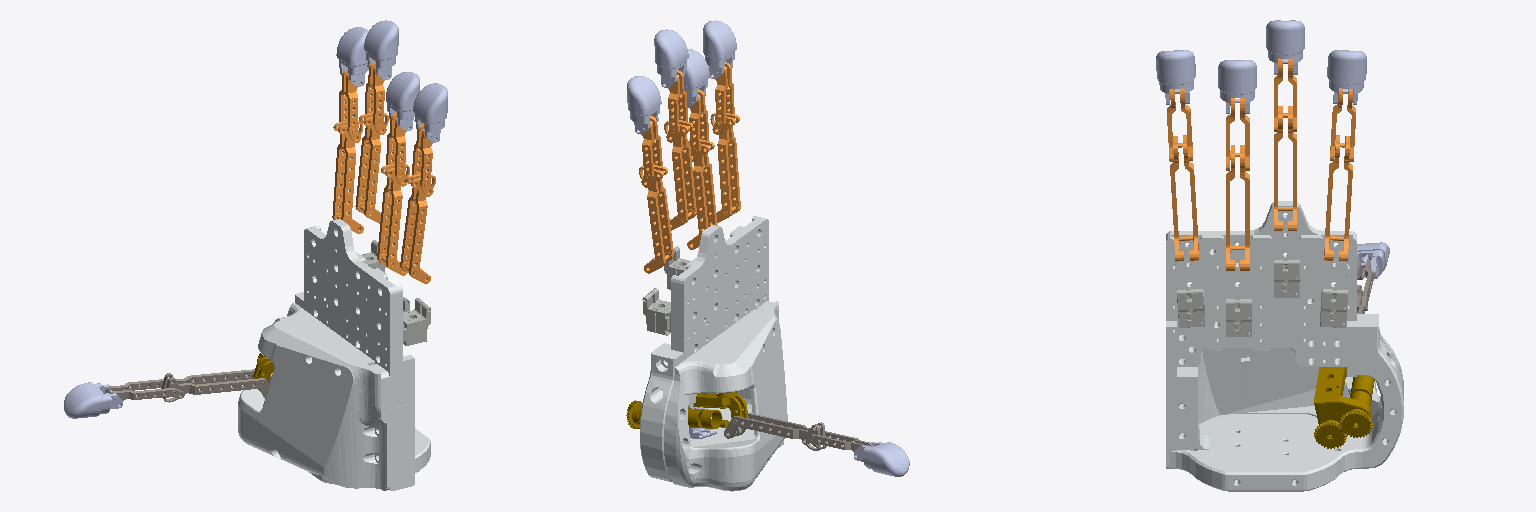
--- Facts derived from the render (not from the file) ---
Views: 3 orthographic renders of the robot side by side, from view 1: azimuth 30°, elevation 25°; view 2: azimuth 150°, elevation 25°; view 3: azimuth 270°, elevation 25°.
Model robot with 27 links and 26 joints (16 revolute, 10 fixed), rooted at left_hand_base_link, posed every joint at zero.
Visible links, largest first — view 1: left_hand_base_link, left_pinky_q1_link, left_ring_q1_link, left_middle_q1_link, left_first_q1_link, left_thumb_q1_link, left_thumb_q3_link, left_middle_q3_link, left_pinky_q3_link, left_ring_q3_link, left_first_q3_link, left_thumb_q2_link (+5 smaller); view 2: left_hand_base_link, left_first_q1_link, left_thumb_q0_link, left_middle_q1_link, left_pinky_q1_link, left_ring_q1_link, left_thumb_q1_link, left_first_q3_link, left_middle_q3_link, left_pinky_q3_link, left_thumb_q3_link, left_ring_q3_link (+6 smaller); view 3: left_hand_base_link, left_thumb_q0_link, left_first_q3_link, left_pinky_q3_link, left_middle_q3_link, left_ring_q3_link, left_pinky_q1_link, left_first_q1_link, left_ring_q1_link, left_middle_q1_link, left_first_d1_link, left_pinky_d1_link (+7 smaller).
Boxes of the visible links, left/top/right/bottom form: left_hand_base_link: left=238, top=219, right=430, bottom=490; left_pinky_q1_link: left=400, top=173, right=435, bottom=283; left_ring_q1_link: left=377, top=163, right=409, bottom=275; left_middle_q1_link: left=355, top=112, right=388, bottom=223; left_first_q1_link: left=332, top=120, right=363, bottom=233; left_thumb_q1_link: left=161, top=369, right=268, bottom=402; left_thumb_q3_link: left=64, top=382, right=122, bottom=418; left_middle_q3_link: left=364, top=20, right=398, bottom=79; left_pinky_q3_link: left=413, top=83, right=447, bottom=142; left_ring_q3_link: left=386, top=72, right=419, bottom=130; left_first_q3_link: left=336, top=27, right=368, bottom=86; left_thumb_q2_link: left=103, top=379, right=184, bottom=400; left_hand_base_link: left=640, top=216, right=787, bottom=491; left_first_q1_link: left=639, top=164, right=673, bottom=273; left_thumb_q0_link: left=626, top=392, right=747, bottom=428; left_middle_q1_link: left=664, top=120, right=696, bottom=230; left_pinky_q1_link: left=710, top=113, right=740, bottom=223; left_ring_q1_link: left=687, top=139, right=717, bottom=249; left_thumb_q1_link: left=724, top=413, right=826, bottom=450; left_first_q3_link: left=627, top=76, right=661, bottom=134; left_middle_q3_link: left=654, top=29, right=688, bottom=87; left_pinky_q3_link: left=703, top=20, right=736, bottom=78; left_thumb_q3_link: left=854, top=442, right=909, bottom=476; left_ring_q3_link: left=682, top=49, right=709, bottom=107; left_hand_base_link: left=1166, top=201, right=1403, bottom=491; left_thumb_q0_link: left=1314, top=367, right=1374, bottom=448; left_first_q3_link: left=1327, top=50, right=1366, bottom=104; left_pinky_q3_link: left=1156, top=50, right=1195, bottom=104; left_middle_q3_link: left=1266, top=20, right=1304, bottom=74; left_ring_q3_link: left=1218, top=60, right=1256, bottom=113; left_pinky_q1_link: left=1170, top=135, right=1198, bottom=261; left_first_q1_link: left=1324, top=135, right=1352, bottom=261; left_ring_q1_link: left=1226, top=145, right=1249, bottom=270; left_middle_q1_link: left=1274, top=106, right=1296, bottom=230; left_first_d1_link: left=1320, top=289, right=1347, bottom=327; left_pinky_d1_link: left=1177, top=289, right=1204, bottom=327.
Size in the robot's own frame: 0.1764 by 0.114 by 0.2351 metres.
23 mesh visuals loaded from 11 distinct referenced files (11 binary STL).

The robot description file, URDF, robot "robot":
<?xml version="1.0" encoding="utf-8"?>
<!-- Mentee Robotics LTD -->
<robot name="robot">

  <link name="left_hand_base_link">
    <inertial>
      <origin xyz="1.41028E-5 -1.38132E-3 1.21910E-2" rpy="0 0 0" />
      <mass value="2.69760E-1" />
      <inertia ixx="6.26390E-4" ixy="-2.62810E-6" ixz="1.78530E-5" iyy="4.18720E-4" iyz="4.25750E-6" izz="2.79820E-4" />
    </inertial>
    <visual>
      <origin xyz="0 0 0" rpy="0 0 0" />
      <geometry>
        <mesh filename="../meshes/left_hand_centered_plastic_base_link.STL" />
      </geometry>
      <material name="hand_base_material">
        <color rgba="9.00000E-1 9.20000E-1 9.30000E-1 1" />
      </material>
    </visual>
    <collision>
      <origin xyz="-0.0015 0 0.07231205" rpy="0 0 0" />
      <geometry>
        <box size="0.007558914 0.08930652 0.08707689"/>
      </geometry>
    </collision>
  </link>
  <link name="left_first_finger_link">
    <inertial>
      <origin xyz="1.41028E-5 -1.38132E-3 1.21910E-2" rpy="0 0 0" />
      <mass value="6.23184E-2" />
      <inertia ixx="2.69318E-5" ixy="-6.82829E-9" ixz="-3.70732E-9" iyy="1.89349E-5" iyz="-3.38259E-6" izz="9.16720E-6" />
    </inertial>
    <visual>
      <origin xyz="0 0 0" rpy="0 0 0" />
      <geometry>
        <box size="0.0 0.0 0.00"/>
      </geometry>
      <material name="finger_material">
        <color rgba="6.50000E-1 6.20000E-1 5.90000E-1 1" />
      </material>
    </visual>
    <!-- <collision>
      <origin xyz="0 0 0" rpy="0 0 0" />
      <geometry>
<box size="0.0 0.0 0.00"/>
      </geometry>
    </collision> -->
  </link>
  <joint name="left_first_finger_joint" type="fixed">
    <parent link="left_hand_base_link"/>
    <child link="left_first_finger_link"/>
    <origin xyz="1.25E-2 2.982727E-2 6.902597E-2" rpy="0 0.05235987755982989 1.5707963267948966"/>
  </joint>
  <link name="left_first_d1_link">
    <inertial>
      <origin xyz="1.74150E-4 1.08122E-3 7.23593E-3" rpy="0 0 0" />
      <mass value="1.05530E-2" />
      <inertia ixx="4.19692E-7" ixy="7.60112E-9" ixz="-2.83919E-9" iyy="3.03494E-7" iyz="5.53787E-8" izz="3.23542E-7" />
    </inertial>
    <visual>
      <origin xyz="0 0 0" rpy="0 0 0" />
      <geometry>
        <mesh filename="../meshes/d1_link.STL" />
      </geometry>
      <material name="d1_material">
        <color rgba="7.60000E-1 7.70000E-1 7.50000E-1 1" />
      </material>
    </visual>

  </link>
  <joint name="left_first_d1" type="fixed">  <!--type="prismatic"-->
    <origin xyz="0 0 7.78820E-3" rpy="0 0 0" />
    <parent link="left_first_finger_link" />
    <child link="left_first_d1_link" />
    <axis xyz="0 0 1" />
    <limit lower="0" upper="1.37000E-2" effort="65" velocity="2.26670E-2" />
  </joint>
  <link name="left_first_q1_link">
    <inertial>
      <origin xyz="-1.08233E-3 -2.23853E-2 3.25131E-18" rpy="0 0 0" />
      <mass value="1.13769E-2" />
      <inertia ixx="4.45629E-6" ixy="2.87678E-7" ixz="0" iyy="2.80820E-7" iyz="0" izz="4.39682E-6" />
    </inertial>
    <visual>
      <origin xyz="0 0 0" rpy="0 0 0" />
      <geometry>
        <mesh filename="../meshes/q1_link.STL" />
      </geometry>
      <material name="q1_material">
        <color rgba="1 6.60000E-1 3.30000E-1 1" />
      </material>
    </visual>
    <collision>
      <origin xyz="-9.8769626e-05 -3.3989478e-02 4.5013926e-09" rpy="2.413454291633745e-12 -2.680776711727617e-09 1.424609304985405e-16" />
      <geometry>
        <box size="0.0048858104 0.03297816 0.01"/>
      </geometry>
    </collision>
  </link>
  <joint name="left_first_q1" type="revolute">
    <origin xyz="0 3.00000E-3 4.90000E-2" rpy="-1.5708 -1.05310E-1 1.5708" />
    <parent link="left_first_finger_link" />
    <child link="left_first_q1_link" />
    <axis xyz="0 0 1" />
    <limit lower="0" upper="1.6642" effort="0.001" velocity="1" />
  </joint>
  <link name="left_first_q2_link">
    <inertial>
      <origin xyz="1.36499E-2 5.85876E-5 -4.02070E-18" rpy="0 0 0" />
      <mass value="6.45066E-3" />
      <inertia ixx="1.14612E-7" ixy="-1.97658E-8" ixz="0" iyy="9.24394E-7" iyz="0" izz="8.62155E-7" />
    </inertial>
    <visual>
      <origin xyz="0 0 0" rpy="0 0 0" />
      <geometry>
        <mesh filename="../meshes/q2_link.STL" />
      </geometry>
      <material name="q2_material">
        <color rgba="1 6.60000E-1 3.30000E-1 1" />
      </material>
    </visual>
    <collision>
      <origin xyz="1.3972766e-02 8.0840581e-04 7.7610217e-11" rpy="0 0 0" />
      <geometry>
        <box size="0.024256716 0.0047367546 0.010154686"/>
      </geometry>
    </collision>
  </link>
  <joint name="left_first_q2" type="revolute">
    <origin xyz="0 -5.00000E-2 0" rpy="0 0 -1.5708" />
    <parent link="left_first_q1_link" />
    <child link="left_first_q2_link" />
    <axis xyz="0 0 1" />
    <limit lower="0" upper="1.3737" effort="0.001" velocity="1" />
  </joint>
  <link name="left_first_q3_link">
    <inertial>
      <origin xyz="1.30988E-2 -3.50493E-3 5.10530E-7" rpy="0 0 0" />
      <mass value="1.31077E-2" />
      <inertia ixx="4.05146E-7" ixy="7.10882E-8" ixz="1.25856E-10" iyy="6.74981E-7" iyz="-4.14391E-11" izz="5.73179E-7" />
    </inertial>
    <visual>
      <origin xyz="0 0 0" rpy="0 0 0" />
      <geometry>
        <mesh filename="../meshes/q3_link.STL" />
      </geometry>
      <material name="q3_material">
        <color rgba="7.90000E-1 8.20000E-1 9.30000E-1 1" />
      </material>
    </visual>
    <collision>
      <origin xyz="0.01232947 -0.00265039 -0.00015648" rpy="-0.00130114451867413 -0.022229642002364214 0.0005672468909592609" />
      <geometry>
        <box size="0.020540927 0.010061896 0.014901003"/>
      </geometry>
    </collision>
  </link>
  <joint name="left_first_q3" type="revolute">
    <origin xyz="2.79560E-2 1.57500E-3 0" rpy="0 0 5.62780E-2" />
    <parent link="left_first_q2_link" />
    <child link="left_first_q3_link" />
    <axis xyz="0 0 1" />
    <limit lower="0" upper="1.2654" effort="0.001" velocity="1" />
  </joint> 
  <link name="left_middle_finger_link">
    <inertial>
      <origin xyz="1.41028E-5 -1.38132E-3 1.21910E-2" rpy="0 0 0" />
      <mass value="6.23184E-2" />
      <inertia ixx="2.69318E-5" ixy="-6.82829E-9" ixz="-3.70732E-9" iyy="1.89349E-5" iyz="-3.38259E-6" izz="9.16720E-6" />
    </inertial>
    <visual>
      <origin xyz="0 0 0" rpy="0 0 0" />
      <geometry>
        <box size="0.0 0.0 0.00"/>
      </geometry>
      <material name="finger_material">
        <color rgba="6.50000E-1 6.20000E-1 5.90000E-1 1" />
      </material>
    </visual>
  </link> 
  <!-- Fixed joint to connect left_hand_base_link and new_link -->
  <joint name="left_middle_finger_joint" type="fixed">
    <parent link="left_hand_base_link"/>
    <child link="left_middle_finger_link"/>
    <origin xyz="1.25E-2 0.881903E-2 8.4E-2" rpy="0 0 1.5707963267948966"/> 1.25E-2 2.982727E-2 6.902597E-2
  </joint>
  <link name="left_middle_d1_link">
    <inertial>
      <origin xyz="1.74150E-4 1.08122E-3 7.23593E-3" rpy="0 0 0" />
      <mass value="1.05530E-2" />
      <inertia ixx="4.19692E-7" ixy="7.60112E-9" ixz="-2.83919E-9" iyy="3.03494E-7" iyz="5.53787E-8" izz="3.23542E-7" />
    </inertial>
    <visual>
      <origin xyz="0 0 0" rpy="0 0 0" />
      <geometry>
        <mesh filename="../meshes/d1_link.STL" />
      </geometry>
      <material name="d1_material">
        <color rgba="7.60000E-1 7.70000E-1 7.50000E-1 1" />
      </material>
    </visual>

  </link>
  <joint name="left_middle_d1" type="fixed">  <!--type="prismatic"-->
    <origin xyz="0 0 7.78820E-3" rpy="0 0 0" />
    <parent link="left_middle_finger_link" />
    <child link="left_middle_d1_link" />
    <axis xyz="0 0 1" />
    <limit lower="0" upper="1.37000E-2" effort="65" velocity="2.26670E-2" />
  </joint>
  <link name="left_middle_q1_link">
    <inertial>
      <origin xyz="-1.08233E-3 -2.23853E-2 3.25131E-18" rpy="0 0 0" />
      <mass value="1.13769E-2" />
      <inertia ixx="4.45629E-6" ixy="2.87678E-7" ixz="0" iyy="2.80820E-7" iyz="0" izz="4.39682E-6" />
    </inertial>
    <visual>
      <origin xyz="0 0 0" rpy="0 0 0" />
      <geometry>
        <mesh filename="../meshes/q1_link.STL" />
      </geometry>
      <material name="q1_material">
        <color rgba="1 6.60000E-1 3.30000E-1 1" />
      </material>
    </visual>
    <collision>
      <origin xyz="-9.8769626e-05 -3.3989478e-02 4.5013926e-09" rpy="2.413454291633745e-12 -2.680776711727617e-09 1.424609304985405e-16" />
      <geometry>
        <box size="0.0048858104 0.03297816 0.01"/>
      </geometry>
    </collision>
  </link>
  <joint name="left_middle_q1" type="revolute">
    <origin xyz="0 3.00000E-3 4.90000E-2" rpy="-1.5708 -1.05310E-1 1.5708" />
    <parent link="left_middle_finger_link" />
    <child link="left_middle_q1_link" />
    <axis xyz="0 0 1" />
    <limit lower="0" upper="1.6642" effort="0.001" velocity="1" />
  </joint>
  <link name="left_middle_q2_link">
    <inertial>
      <origin xyz="1.36499E-2 5.85876E-5 -4.02070E-18" rpy="0 0 0" />
      <mass value="6.45066E-3" />
      <inertia ixx="1.14612E-7" ixy="-1.97658E-8" ixz="0" iyy="9.24394E-7" iyz="0" izz="8.62155E-7" />
    </inertial>
    <visual>
      <origin xyz="0 0 0" rpy="0 0 0" />
      <geometry>
        <mesh filename="../meshes/q2_link.STL" />
      </geometry>
      <material name="q2_material">
        <color rgba="1 6.60000E-1 3.30000E-1 1" />
      </material>
    </visual>
    <collision>
      <origin xyz="1.3972766e-02 8.0840581e-04 7.7610217e-11" rpy="0 0 0" />
      <geometry>
        <box size="0.024256716 0.0047367546 0.010154686"/>
      </geometry>
    </collision>
  </link>
  <joint name="left_middle_q2" type="revolute">
    <origin xyz="0 -5.00000E-2 0" rpy="0 0 -1.5708" />
    <parent link="left_middle_q1_link" />
    <child link="left_middle_q2_link" />
    <axis xyz="0 0 1" />
    <limit lower="0" upper="1.3737" effort="0.001" velocity="1" />
  </joint>
  <link name="left_middle_q3_link">
    <inertial>
      <origin xyz="1.30988E-2 -3.50493E-3 5.10530E-7" rpy="0 0 0" />
      <mass value="1.31077E-2" />
      <inertia ixx="4.05146E-7" ixy="7.10882E-8" ixz="1.25856E-10" iyy="6.74981E-7" iyz="-4.14391E-11" izz="5.73179E-7" />
    </inertial>
    <visual>
      <origin xyz="0 0 0" rpy="0 0 0" />
      <geometry>
        <mesh filename="../meshes/q3_link.STL" />
      </geometry>
      <material name="q3_material">
        <color rgba="7.90000E-1 8.20000E-1 9.30000E-1 1" />
      </material>
    </visual>
    <collision>
      <origin xyz="0.01232947 -0.00265039 -0.00015648" rpy="-0.00130114451867413 -0.022229642002364214 0.0005672468909592609" />
      <geometry>
        <box size="0.020540927 0.010061896 0.014901003"/>
      </geometry>
    </collision>
  </link>
  <joint name="left_middle_q3" type="revolute">
    <origin xyz="2.79560E-2 1.57500E-3 0" rpy="0 0 5.62780E-2" />
    <parent link="left_middle_q2_link" />
    <child link="left_middle_q3_link" />
    <axis xyz="0 0 1" />
    <limit lower="0" upper="1.2654" effort="0.001" velocity="1" />
  </joint> 
  <link name="left_ring_finger_link">
    <inertial>
      <origin xyz="1.41028E-5 -1.38132E-3 1.21910E-2" rpy="0 0 0" />
      <mass value="6.23184E-2" />
      <inertia ixx="2.69318E-5" ixy="-6.82829E-9" ixz="-3.70732E-9" iyy="1.89349E-5" iyz="-3.38259E-6" izz="9.16720E-6" />
    </inertial>
    <visual>
      <origin xyz="0 0 0" rpy="0 0 0" />
      <geometry>
        <box size="0.0 0.0 0.00"/>
      </geometry>
      <material name="finger_material">
        <color rgba="6.50000E-1 6.20000E-1 5.90000E-1 1" />
      </material>
    </visual>
  </link> 
  <!-- Fixed joint to connect left_hand_base_link and new_link -->
  <joint name="left_ring_finger_joint" type="fixed">
    <parent link="left_hand_base_link"/>
    <child link="left_ring_finger_link"/>
    <origin xyz="1.25E-2 -1.318097E-2 6.4E-2" rpy="0 0 1.5707963267948966"/> 1.25E-2 2.982727E-2 6.902597E-2
  </joint>
  <link name="left_ring_d1_link">
    <inertial>
      <origin xyz="1.74150E-4 1.08122E-3 7.23593E-3" rpy="0 0 0" />
      <mass value="1.05530E-2" />
      <inertia ixx="4.19692E-7" ixy="7.60112E-9" ixz="-2.83919E-9" iyy="3.03494E-7" iyz="5.53787E-8" izz="3.23542E-7" />
    </inertial>
    <visual>
      <origin xyz="0 0 0" rpy="0 0 0" />
      <geometry>
        <mesh filename="../meshes/d1_link.STL" />
      </geometry>
      <material name="d1_material">
        <color rgba="7.60000E-1 7.70000E-1 7.50000E-1 1" />
      </material>
    </visual>
  </link>
  <joint name="left_ring_d1" type="fixed">  <!--type="prismatic"-->
    <origin xyz="0 0 7.78820E-3" rpy="0 0 0" />
    <parent link="left_ring_finger_link" />
    <child link="left_ring_d1_link" />
    <axis xyz="0 0 1" />
    <limit lower="0" upper="1.37000E-2" effort="65" velocity="2.26670E-2" />
  </joint>
  <link name="left_ring_q1_link">
    <inertial>
      <origin xyz="-1.08233E-3 -2.23853E-2 3.25131E-18" rpy="0 0 0" />
      <mass value="1.13769E-2" />
      <inertia ixx="4.45629E-6" ixy="2.87678E-7" ixz="0" iyy="2.80820E-7" iyz="0" izz="4.39682E-6" />
    </inertial>
    <visual>
      <origin xyz="0 0 0" rpy="0 0 0" />
      <geometry>
        <mesh filename="../meshes/q1_link.STL" />
      </geometry>
      <material name="q1_material">
        <color rgba="1 6.60000E-1 3.30000E-1 1" />
      </material>
    </visual>
    <collision>
      <origin xyz="-9.8769626e-05 -3.3989478e-02 4.5013926e-09" rpy="2.413454291633745e-12 -2.680776711727617e-09 1.424609304985405e-16" />
      <geometry>
        <box size="0.0048858104 0.03297816 0.01"/>
      </geometry>
    </collision>
  </link>
  <joint name="left_ring_q1" type="revolute">
    <origin xyz="0 3.00000E-3 4.90000E-2" rpy="-1.5708 -1.05310E-1 1.5708" />
    <parent link="left_ring_finger_link" />
    <child link="left_ring_q1_link" />
    <axis xyz="0 0 1" />
    <limit lower="0" upper="1.6642" effort="0.001" velocity="1" />
  </joint>
  <link name="left_ring_q2_link">
    <inertial>
      <origin xyz="1.36499E-2 5.85876E-5 -4.02070E-18" rpy="0 0 0" />
      <mass value="6.45066E-3" />
      <inertia ixx="1.14612E-7" ixy="-1.97658E-8" ixz="0" iyy="9.24394E-7" iyz="0" izz="8.62155E-7" />
    </inertial>
    <visual>
      <origin xyz="0 0 0" rpy="0 0 0" />
      <geometry>
        <mesh filename="../meshes/q2_link.STL" />
      </geometry>
      <material name="q2_material">
        <color rgba="1 6.60000E-1 3.30000E-1 1" />
      </material>
    </visual>
    <collision>
      <origin xyz="1.3972766e-02 8.0840581e-04 7.7610217e-11" rpy="0 0 0" />
      <geometry>
        <box size="0.024256716 0.0047367546 0.010154686"/>
      </geometry>
    </collision>
  </link>
  <joint name="left_ring_q2" type="revolute">
    <origin xyz="0 -5.00000E-2 0" rpy="0 0 -1.5708" />
    <parent link="left_ring_q1_link" />
    <child link="left_ring_q2_link" />
    <axis xyz="0 0 1" />
    <limit lower="0" upper="1.3737" effort="0.001" velocity="1" />
  </joint>
  <link name="left_ring_q3_link">
    <inertial>
      <origin xyz="1.30988E-2 -3.50493E-3 5.10530E-7" rpy="0 0 0" />
      <mass value="1.31077E-2" />
      <inertia ixx="4.05146E-7" ixy="7.10882E-8" ixz="1.25856E-10" iyy="6.74981E-7" iyz="-4.14391E-11" izz="5.73179E-7" />
    </inertial>
    <visual>
      <origin xyz="0 0 0" rpy="0 0 0" />
      <geometry>
        <mesh filename="../meshes/q3_link.STL" />
      </geometry>
      <material name="q3_material">
        <color rgba="7.90000E-1 8.20000E-1 9.30000E-1 1" />
      </material>
    </visual>
    <collision>
      <origin xyz="0.01232947 -0.00265039 -0.00015648" rpy="-0.00130114451867413 -0.022229642002364214 0.0005672468909592609" />
      <geometry>
        <box size="0.020540927 0.010061896 0.014901003"/>
      </geometry>
    </collision>
  </link>
  <joint name="left_ring_q3" type="revolute">
    <origin xyz="2.79560E-2 1.57500E-3 0" rpy="0 0 5.62780E-2" />
    <parent link="left_ring_q2_link" />
    <child link="left_ring_q3_link" />
    <axis xyz="0 0 1" />
    <limit lower="0" upper="1.2654" effort="0.001" velocity="1" />
  </joint>
  <link name="left_pinky_finger_link">
    <inertial>
      <origin xyz="1.41028E-5 -1.38132E-3 1.21910E-2" rpy="0 0 0" />
      <mass value="6.23184E-2" />
      <inertia ixx="2.69318E-5" ixy="-6.82829E-9" ixz="-3.70732E-9" iyy="1.89349E-5" iyz="-3.38259E-6" izz="9.16720E-6" />
    </inertial>
    <visual>
      <origin xyz="0 0 0" rpy="0 0 0" />
      <geometry>
        <box size="0.0 0.0 0.00"/>
      </geometry>
      <material name="finger_material">
        <color rgba="6.50000E-1 6.20000E-1 5.90000E-1 1" />
      </material>
    </visual>
  </link> 
  <!-- Fixed joint to connect left_hand_base_link and new_link -->
  <joint name="left_pinky_finger_joint" type="fixed">
    <parent link="left_hand_base_link"/>
    <child link="left_pinky_finger_link"/>
    <origin xyz="1.25E-2 -3.41892E-2 6.902597E-2" rpy="0 -0.05235987755982989 1.5707963267948966"/> 
  </joint>
  <link name="left_pinky_d1_link">
    <inertial>
      <origin xyz="1.74150E-4 1.08122E-3 7.23593E-3" rpy="0 0 0" />
      <mass value="1.05530E-2" />
      <inertia ixx="4.19692E-7" ixy="7.60112E-9" ixz="-2.83919E-9" iyy="3.03494E-7" iyz="5.53787E-8" izz="3.23542E-7" />
    </inertial>
    <visual>
      <origin xyz="0 0 0" rpy="0 0 0" />
      <geometry>
        <mesh filename="../meshes/d1_link.STL" />
      </geometry>
      <material name="d1_material">
        <color rgba="7.60000E-1 7.70000E-1 7.50000E-1 1" />
      </material>
    </visual>

  </link>
  <joint name="left_pinky_d1" type="fixed">  <!--type="prismatic"-->
    <origin xyz="0 0 7.78820E-3" rpy="0 0 0" />
    <parent link="left_pinky_finger_link" />
    <child link="left_pinky_d1_link" />
    <axis xyz="0 0 1" />
    <limit lower="0" upper="1.37000E-2" effort="65" velocity="2.26670E-2" />
  </joint>
  <link name="left_pinky_q1_link">
    <inertial>
      <origin xyz="-1.08233E-3 -2.23853E-2 3.25131E-18" rpy="0 0 0" />
      <mass value="1.13769E-2" />
      <inertia ixx="4.45629E-6" ixy="2.87678E-7" ixz="0" iyy="2.80820E-7" iyz="0" izz="4.39682E-6" />
    </inertial>
    <visual>
      <origin xyz="0 0 0" rpy="0 0 0" />
      <geometry>
        <mesh filename="../meshes/q1_link.STL" />
      </geometry>
      <material name="q1_material">
        <color rgba="1 6.60000E-1 3.30000E-1 1" />
      </material>
    </visual>
    <collision>
      <origin xyz="-9.8769626e-05 -3.3989478e-02 4.5013926e-09" rpy="2.413454291633745e-12 -2.680776711727617e-09 1.424609304985405e-16" />
      <geometry>
        <box size="0.0048858104 0.03297816 0.01"/>
      </geometry>
    </collision>
  </link>
  <joint name="left_pinky_q1" type="revolute">
    <origin xyz="0 3.00000E-3 4.90000E-2" rpy="-1.5708 -1.05310E-1 1.5708" />
    <parent link="left_pinky_finger_link" />
    <child link="left_pinky_q1_link" />
    <axis xyz="0 0 1" />
    <limit lower="0" upper="1.6642" effort="0.001" velocity="1" />
  </joint>
  <link name="left_pinky_q2_link">
    <inertial>
      <origin xyz="1.36499E-2 5.85876E-5 -4.02070E-18" rpy="0 0 0" />
      <mass value="6.45066E-3" />
      <inertia ixx="1.14612E-7" ixy="-1.97658E-8" ixz="0" iyy="9.24394E-7" iyz="0" izz="8.62155E-7" />
    </inertial>
    <visual>
      <origin xyz="0 0 0" rpy="0 0 0" />
      <geometry>
        <mesh filename="../meshes/q2_link.STL" />
      </geometry>
      <material name="q2_material">
        <color rgba="1 6.60000E-1 3.30000E-1 1" />
      </material>
    </visual>
    <collision>
      <origin xyz="1.3972766e-02 8.0840581e-04 7.7610217e-11" rpy="0 0 0" />
      <geometry>
        <box size="0.024256716 0.0047367546 0.010154686"/>
      </geometry>
    </collision>
  </link>
  <joint name="left_pinky_q2" type="revolute">
    <origin xyz="0 -5.00000E-2 0" rpy="0 0 -1.5708" />
    <parent link="left_pinky_q1_link" />
    <child link="left_pinky_q2_link" />
    <axis xyz="0 0 1" />
    <limit lower="0" upper="1.3737" effort="0.001" velocity="1" />
  </joint>
  <link name="left_pinky_q3_link">
    <inertial>
      <origin xyz="1.30988E-2 -3.50493E-3 5.10530E-7" rpy="0 0 0" />
      <mass value="1.31077E-2" />
      <inertia ixx="4.05146E-7" ixy="7.10882E-8" ixz="1.25856E-10" iyy="6.74981E-7" iyz="-4.14391E-11" izz="5.73179E-7" />
    </inertial>
    <visual>
      <origin xyz="0 0 0" rpy="0 0 0" />
      <geometry>
        <mesh filename="../meshes/q3_link.STL" />
      </geometry>
      <material name="q3_material">
        <color rgba="7.90000E-1 8.20000E-1 9.30000E-1 1" />
      </material>
    </visual>
    <collision>
      <origin xyz="0.01232947 -0.00265039 -0.00015648" rpy="-0.00130114451867413 -0.022229642002364214 0.0005672468909592609" />
      <geometry>
        <box size="0.020540927 0.010061896 0.014901003"/>
      </geometry>
    </collision>
  </link>
  <joint name="left_pinky_q3" type="revolute">
    <origin xyz="2.79560E-2 1.57500E-3 0" rpy="0 0 5.62780E-2" />
    <parent link="left_pinky_q2_link" />
    <child link="left_pinky_q3_link" />
    <axis xyz="0 0 1" />
    <limit lower="0" upper="1.2654" effort="0.001" velocity="1" />
  </joint>
  <link name="left_thumb_finger_link">
    <inertial>
      <origin xyz="-4.16115E-3 -8.83343E-3 6.38638E-3" rpy="0 0 0" />
      <mass value="8.68809E-3" />
      <inertia ixx="6.00677E-7" ixy="-1.40065E-8" ixz="1.58678E-8" iyy="6.74826E-7" iyz="7.92052E-8" izz="8.79253E-7" />
    </inertial>
    <visual>
      <origin xyz="0 0 0" rpy="0 0 0" />
      <geometry>
        <mesh filename="../meshes/thumb_finger_link.STL" />
      </geometry>
      <material name="base_material">
        <color rgba="9.00000E-1 9.20000E-1 9.30000E-1 1" />
      </material>
    </visual>

  </link>
    <joint name="left_thumb_finger_joint" type="fixed">
    <parent link="left_hand_base_link"/>
    <child link="left_thumb_finger_link"/>
    <origin xyz="-0.75E-2 2E-2 5.15E-2" rpy="0 0 -1.5707963267948966"/>  <!-- fix later 3.141592653589793 3.141592653589793 1.5707963267948966 -->
  </joint>
  <link name="left_thumb_q0_link">
    <inertial>
      <origin xyz="-2.75575E-2 -2.42440E-3 -6.62969E-3" rpy="0 0 0" />
      <mass value="5.20229E-2" />
      <inertia ixx="4.04836E-6" ixy="-2.13431E-6" ixz="-3.57656E-6" iyy="2.07788E-5" iyz="-4.68324E-7" izz="2.03926E-5" />
    </inertial>
    <visual>
      <origin xyz="0 0 0" rpy="0 0 0" />
      <geometry>
        <mesh filename="../meshes/thumb_q0_link.STL" />
      </geometry>
      <material name="q0_material">
        <color rgba="6.50000E-1 5.20000E-1 0 1" />
      </material>
    </visual>

  </link>
  <joint name="left_thumb_q0" type="revolute">
    <origin xyz="-1.21660E-2 -2.01980E-2 -3.46590E-3" rpy="-1.45310E-1 -2.18550E-1 -1.6752" />  <!-- -1.45310E-1 -2.18550E-1 -1.6752-->
    <parent link="left_thumb_finger_link" />
    <child link="left_thumb_q0_link" />
    <axis xyz="0 0 -1" />
    <limit lower="0" upper="8.72670E-1" effort="2.00000E-2" velocity="71" /> <!-- <limit lower="0" upper="8.72670E-1" effort="2.00000E-2" velocity="71" />-->
  </joint>
  <link name="left_thumb_d1_link">
    <inertial>
      <origin xyz="-1.65941E-4 -1.26677E-3 1.45167E-2" rpy="0 0 0" />
      <mass value="1.02835E-2" />
      <inertia ixx="3.73653E-7" ixy="6.98744E-9" ixz="1.90650E-9" iyy="2.68713E-7" iyz="-3.43014E-8" izz="3.06934E-7" />
    </inertial>
    <visual>
      <origin xyz="0 0 0" rpy="0 0 0" />
      <geometry>
        <mesh filename="../meshes/thumb_d1_link.STL" />
      </geometry>
      <material name="d1_material">
        <color rgba="7.90000E-1 8.20000E-1 9.30000E-1 1" />
      </material>
    </visual>

  </link>
  <joint name="left_thumb_d1" type="fixed">  <!--type="prismatic"-->
    <origin xyz="-4.10000E-2 0 -1.50000E-2" rpy="-1.5708 0 -1.5708" />
    <parent link="left_thumb_q0_link" />
    <child link="left_thumb_d1_link" />
    <axis xyz="0 0 1" />
    <limit lower="0" upper="1.37000E-2" effort="65" velocity="2.26000E-2" />
  </joint>
  <link name="left_thumb_q1_link">
    <inertial>
      <origin xyz="-2.20183E-2 4.17929E-3 1.19696E-16" rpy="0 0 0" />
      <mass value="1.13769E-2" />
      <inertia ixx="2.82186E-7" ixy="2.97420E-7" ixz="0" iyy="4.45492E-6" iyz="0" izz="4.39682E-6" />
    </inertial>
    <visual>
      <origin xyz="0 0 0" rpy="0 0 0" />
      <geometry>
        <mesh filename="../meshes/thumb_q1_link.STL" />
      </geometry>
      <material name="q1_material">
        <color rgba="6.50000E-1 6.20000E-1 5.90000E-1 1" />
      </material>
    </visual>
    <collision>
      <origin xyz="-2.5494665e-02 3.2745441e-03 -2.5870072e-11" rpy="4.0383276528100406e-11 5.380125234211164e-10 -0.141592653589793" />
      <geometry>
        <box size=" 0.041680418 0.005832993 0.0096105905"/>
      </geometry>
    </collision>
  </link>
  <joint name="left_thumb_q1" type="revolute">
    <origin xyz="8.00000E-3 0 -1.20000E-2" rpy="-1.5708 0 3.1416" />
    <parent link="left_thumb_q0_link" />
    <child link="left_thumb_q1_link" />
    <axis xyz="0 0 1" />
    <limit lower="0" upper="1.054" effort="0.001" velocity="1" /> <!-- <limit lower="0" upper="1.6642" effort="0.001" velocity="1" /> -->
  </joint>
  <link name="left_thumb_q2_link">
    <inertial>
      <origin xyz="1.63474E-2 -7.65410E-4 1.09653E-4" rpy="0 0 0" />
      <mass value="5.86530E-3" />
      <inertia ixx="1.03988E-7" ixy="3.88969E-8" ixz="-5.57237E-9" iyy="1.01298E-6" iyz="-8.65963E-9" izz="9.53774E-7" />
    </inertial>
    <visual>
      <origin xyz="0 0 0" rpy="0 0 0" />
      <geometry>
        <mesh filename="../meshes/thumb_q2_link.STL" />
      </geometry>
      <material name="q2_material">
        <color rgba="6.50000E-1 6.20000E-1 5.90000E-1 1" />
      </material>
    </visual>
    <collision>
      <origin xyz="1.4597865e-02 -8.7047680e-05 -2.5870072e-11" rpy="0 0 0" />
      <geometry>
        <box size="0.027829053 0.005485616 0.010446283"/>
      </geometry>
    </collision>
  </link>
  <joint name="left_thumb_q2" type="revolute">
    <origin xyz="-4.95159E-2 6.94081E-3 0" rpy="1.42292E-1 0 3.00233" />
    <parent link="left_thumb_q1_link" />
    <child link="left_thumb_q2_link" />
    <axis xyz="0 1.41812E-1 9.89894E-1" />
    <limit lower="0" upper="1.37348" effort="0.001" velocity="1" />
  </joint>
  <link name="left_thumb_q3_link">
    <inertial>
      <origin xyz="1.26319E-2 -3.74928E-3 5.85410E-4" rpy="0 0 0" />
      <mass value="1.00651E-2" />
      <inertia ixx="3.48489E-7" ixy="6.78137E-8" ixz="-9.93104E-9" iyy="5.87245E-7" iyz="-1.16787E-8" izz="5.06965E-7" />
    </inertial>
    <visual>
      <origin xyz="0 0 0" rpy="0 0 0" />
      <geometry>
        <mesh filename="../meshes/thumb_q3_link.STL" />
      </geometry>
      <material name="q3_material">
        <color rgba="7.90000E-1 8.20000E-1 9.30000E-1 1" />
      </material>
    </visual>
    <collision>
      <origin xyz="0.01232947 -0.00264932 0.00017369" rpy="-0.002174990439420481 -0.03648571213357377 0.003225531143117204" />
      <geometry>
        <box size="0.020540927 0.009870675 0.015705913"/>
      </geometry>
    </collision>
  </link>
  <joint name="left_thumb_q3" type="revolute">
    <origin xyz="3.20000E-2 0 -4.94947E-5" rpy="-4.36622E-5 -5.67763E-4 -3.96318E-3" />
    <parent link="left_thumb_q2_link" />
    <child link="left_thumb_q3_link" />
    <axis xyz="0 1.41768E-1 9.89900E-1" />
    <limit lower="0" upper="1.26536" effort="0.001" velocity="1" />
  </joint>


</robot>
